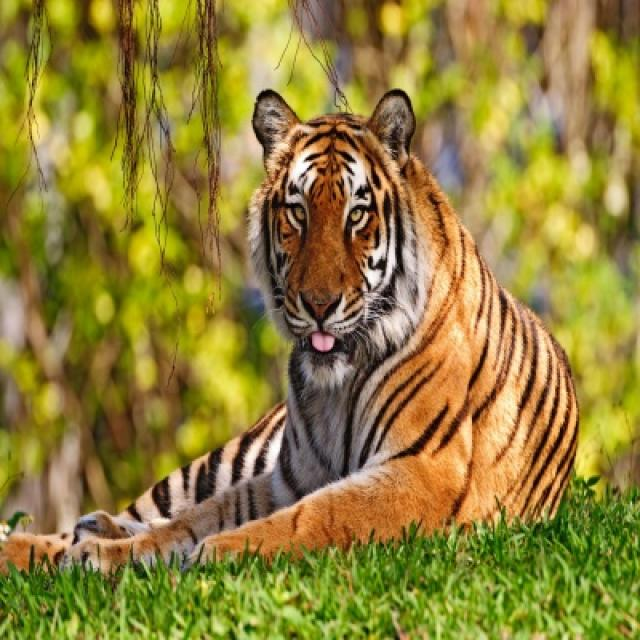Tiger: (2, 90, 578, 570)
